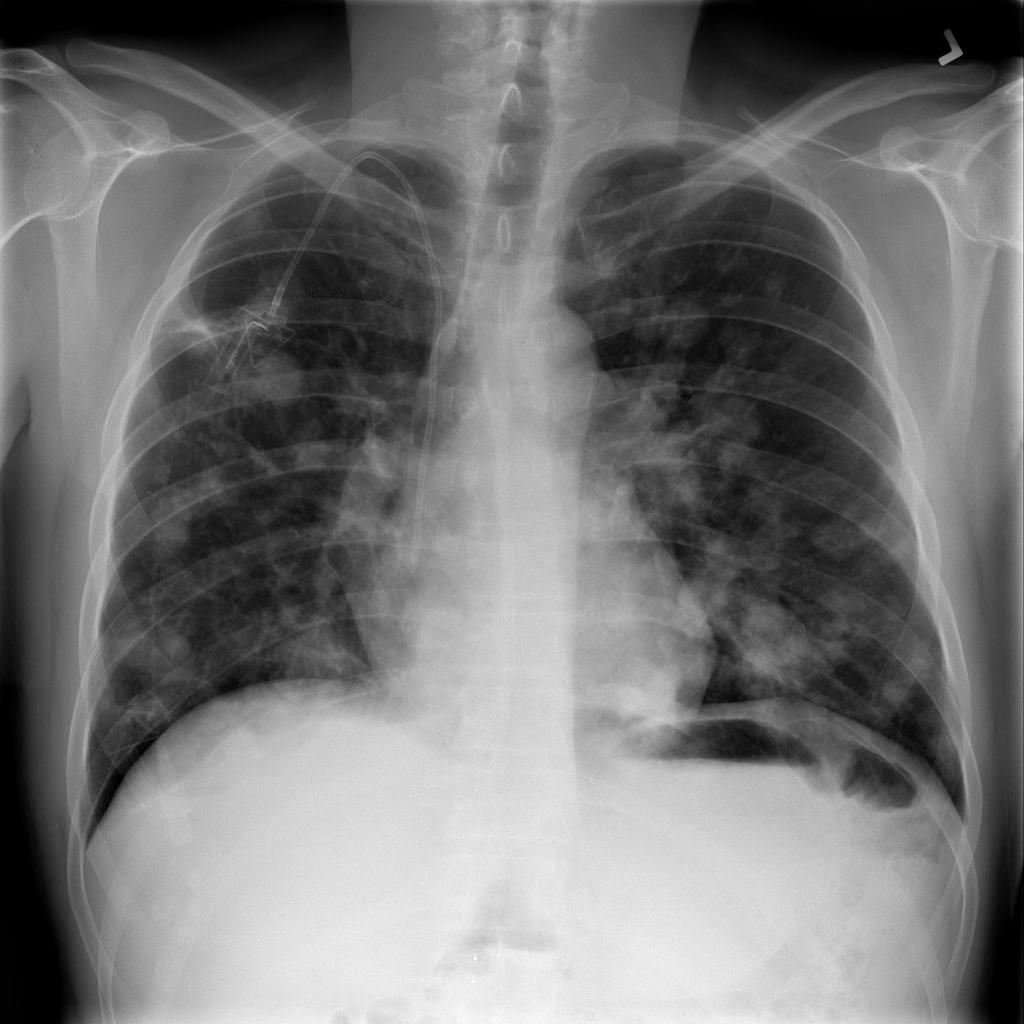nodule: (719, 583, 859, 703), (251, 607, 380, 723), (101, 595, 214, 690), (234, 338, 316, 416), (683, 388, 769, 460), (800, 504, 884, 573), (138, 486, 211, 565), (638, 287, 717, 358), (730, 247, 804, 314), (278, 410, 347, 480), (703, 313, 779, 376), (701, 235, 759, 285), (869, 667, 921, 715)
